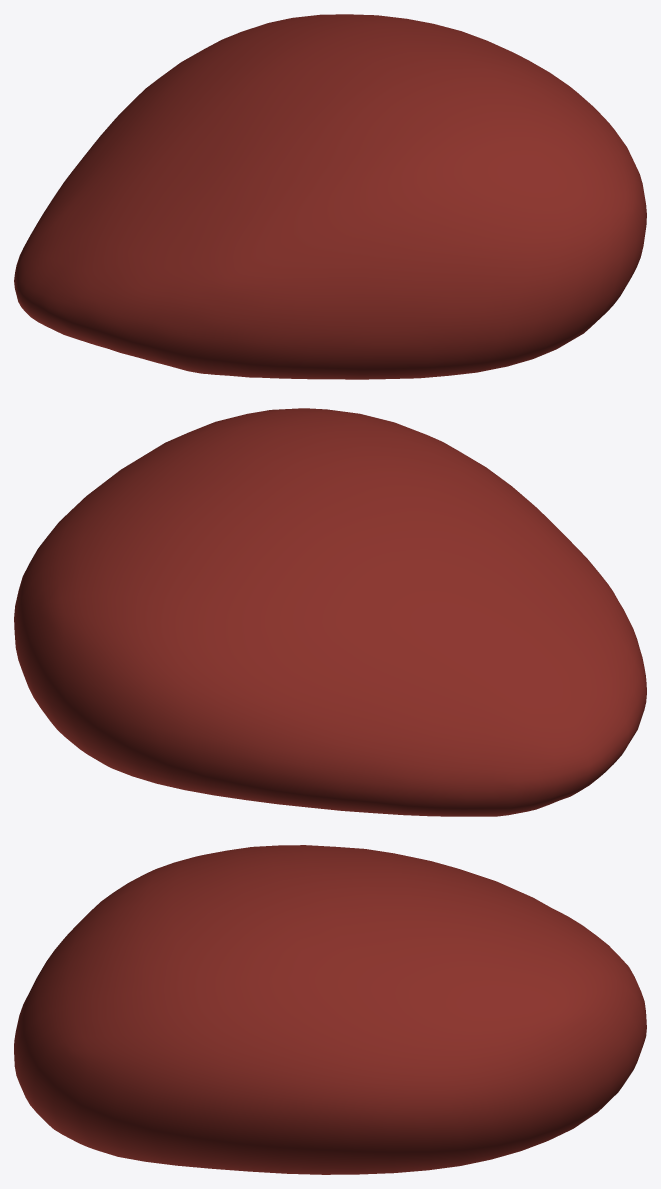
Rendered from stone_3.fbx.
3 views of the same model, one above another, from view 1: azimuth 30°, elevation 25°; view 2: azimuth 150°, elevation 25°; view 3: azimuth 270°, elevation 25° (orthographic). The views are drawn at different scales.
Parts seen in each view (by area): view 1: stone_3; view 2: stone_3; view 3: stone_3.
Boxes of the visible parts, left/top/right/bottom form: stone_3: left=14, top=14, right=646, bottom=379; stone_3: left=14, top=408, right=646, bottom=816; stone_3: left=14, top=845, right=646, bottom=1174.
Bounding box in the file's own units: 73.05 × 29.6 × 71.36.
